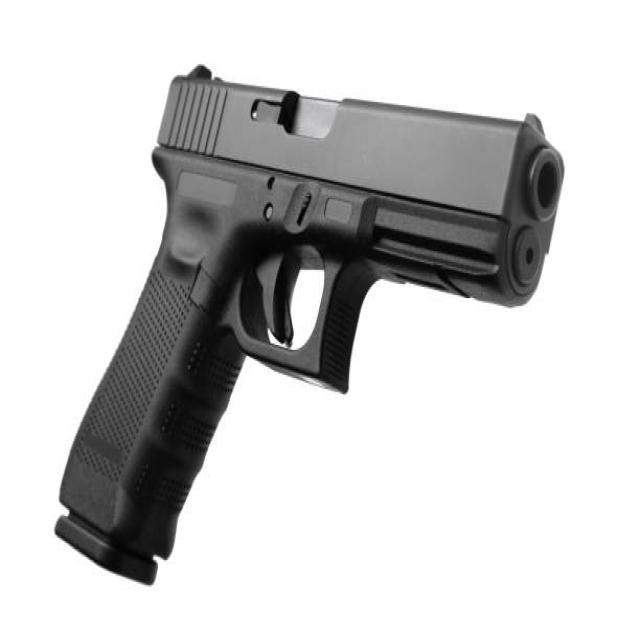pistol: (47, 50, 579, 596)
